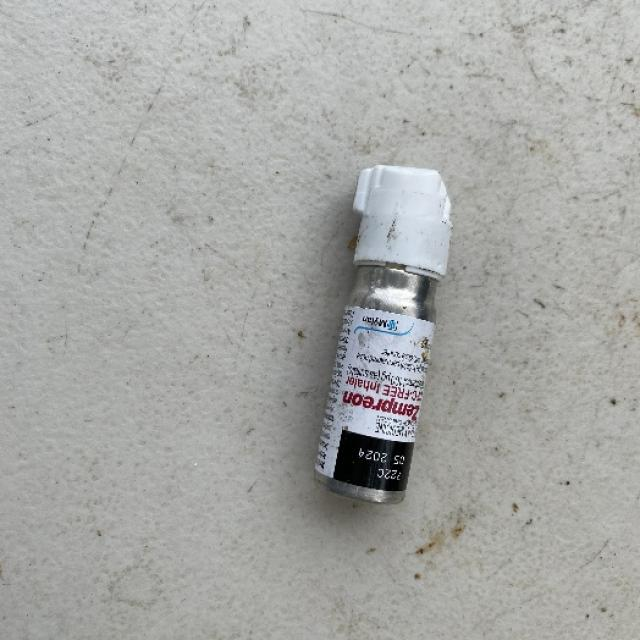metal: (311, 162, 452, 504)
